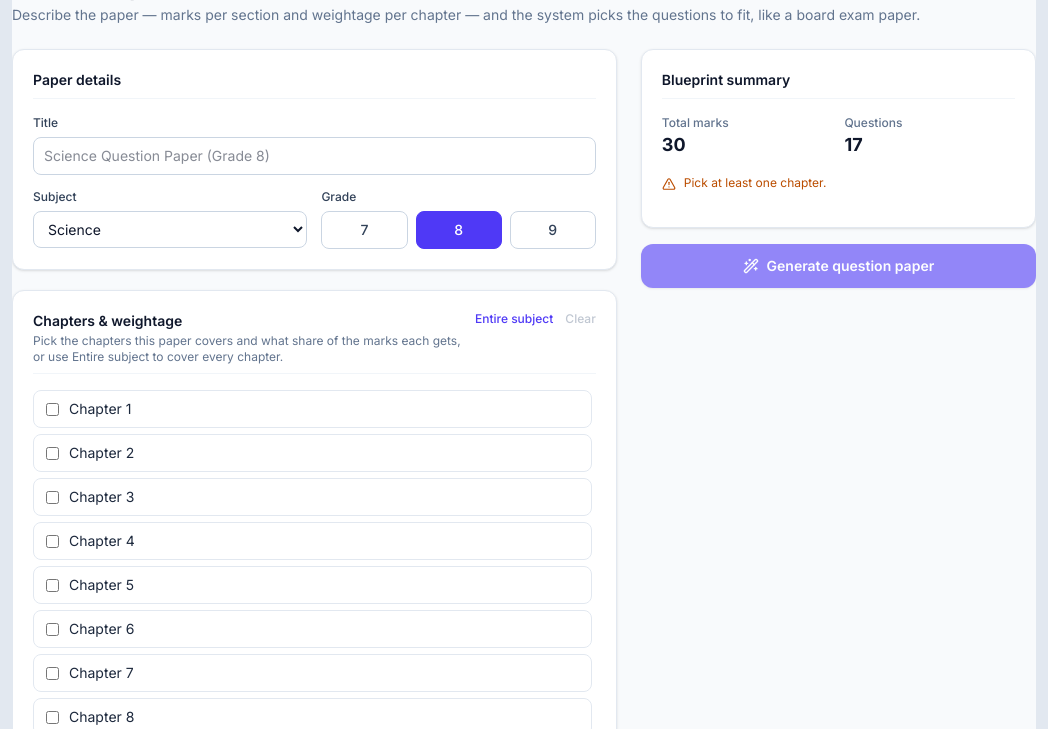
Scenario: a paper for the entire subject › selects every chapter, even when there are more than twelve
Click the button "Entire subject" at (514, 319), box [475,311,553,327]
(page scrolled)
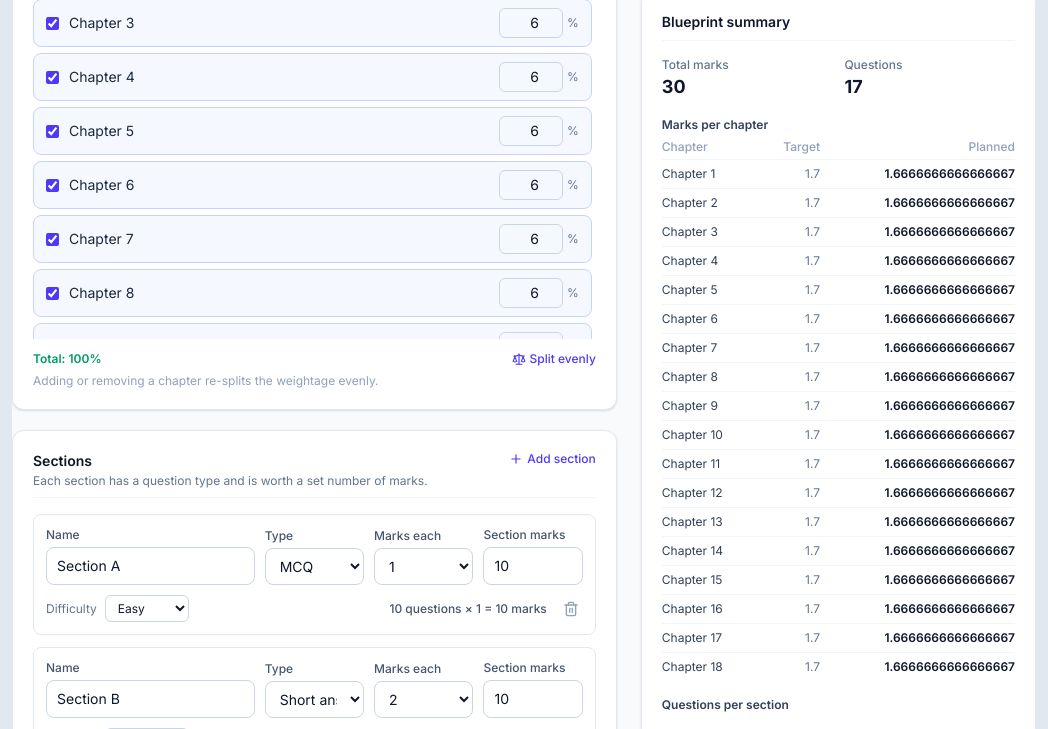
Expected: the text "Total: 100%" is shown, [33,351,101,367]
